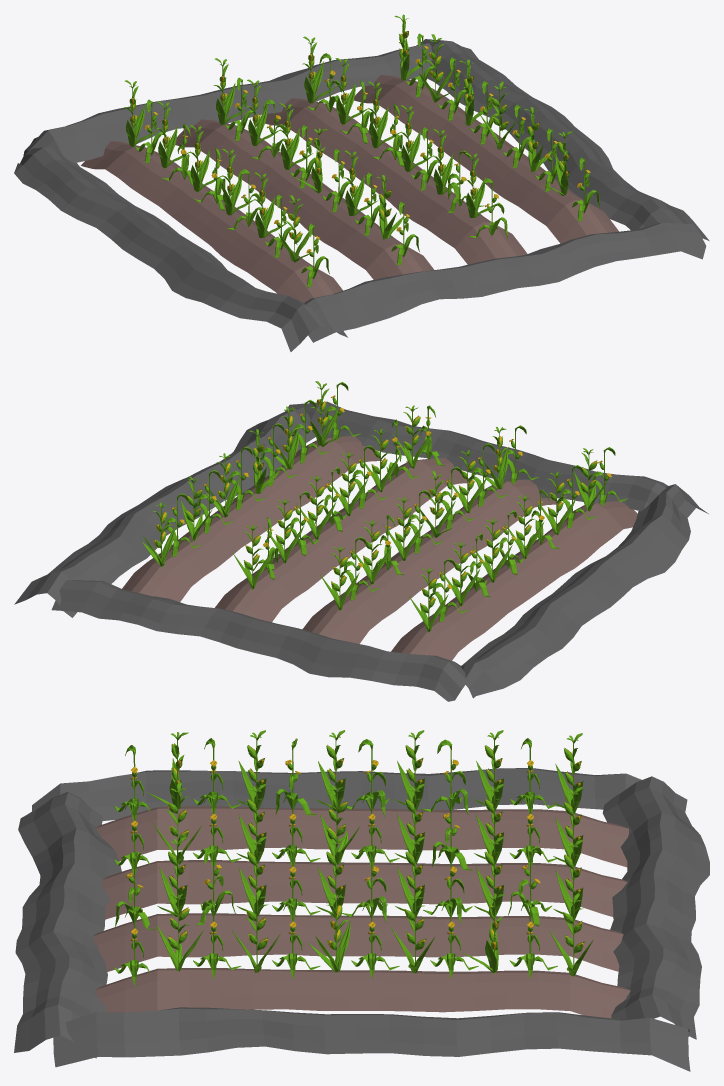
Rendered from 007 Corn_Farm.FBX.
3 views of the same model, one above another, from view 1: azimuth 30°, elevation 25°; view 2: azimuth 150°, elevation 25°; view 3: azimuth 270°, elevation 25° (orthographic). The views are drawn at different scales.
Parts seen in each view (by area): view 1: Plane133, Plane137, Plane134, Plane136, Plane135, corn4177, corn4151, corn4163, corn4171, corn4165, corn4173, corn4157 (+17 smaller); view 2: Plane133, Plane137, Plane134, Plane135, Plane136, corn4189, corn4187, corn4143, corn4153, corn4165, corn4185, corn4161 (+17 smaller); view 3: Plane133, Plane137, Plane136, Plane134, Plane135, corn4183, corn4179, corn4159, corn4189, corn4147, corn4167, corn4185 (+39 smaller).
Part boxes in pixels (<box>): Plane133: <box>14,39,709,351</box>; Plane137: <box>354,75,618,243</box>; Plane134: <box>81,141,342,302</box>; Plane136: <box>265,98,527,264</box>; Plane135: <box>175,119,433,279</box>; corn4177: <box>302,36,336,103</box>; corn4151: <box>156,101,190,168</box>; corn4163: <box>246,79,280,146</box>; corn4171: <box>399,105,433,171</box>; corn4165: <box>213,58,248,125</box>; corn4173: <box>367,81,401,148</box>; corn4157: <box>343,150,377,216</box>; Plane133: <box>14,401,708,701</box>; Plane137: <box>122,436,382,601</box>; Plane134: <box>391,501,637,660</box>; Plane135: <box>302,479,557,643</box>; Plane136: <box>215,458,468,622</box>; corn4189: <box>142,502,175,567</box>; corn4187: <box>180,476,212,541</box>; corn4143: <box>574,448,607,511</box>; corn4153: <box>408,567,448,632</box>; corn4165: <box>320,546,359,610</box>; corn4185: <box>205,453,239,517</box>; corn4161: <box>384,496,423,561</box>; Plane133: <box>14,768,709,1071</box>; Plane137: <box>94,968,630,1018</box>; Plane136: <box>93,913,623,971</box>; Plane134: <box>96,806,628,867</box>; Plane135: <box>102,860,627,919</box>; corn4183: <box>309,893,350,972</box>; corn4179: <box>156,894,203,971</box>; corn4159: <box>320,785,360,864</box>; corn4189: <box>549,893,593,976</box>; corn4147: <box>315,730,345,811</box>; corn4167: <box>157,836,187,916</box>; corn4185: <box>391,890,435,973</box>.
Bounding box in the file's own units: 645 × 126 × 668.
